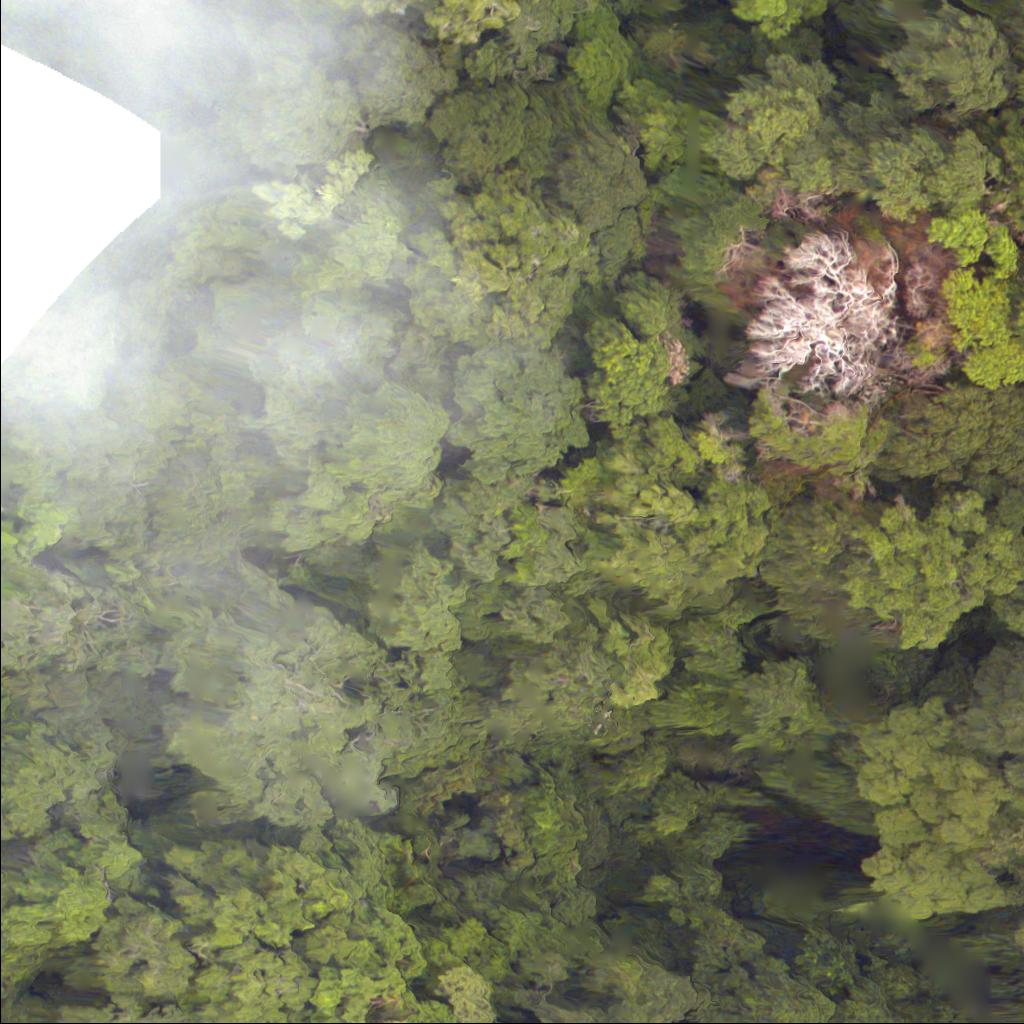crown: (87, 820, 431, 1023), (392, 1019, 438, 1023)
